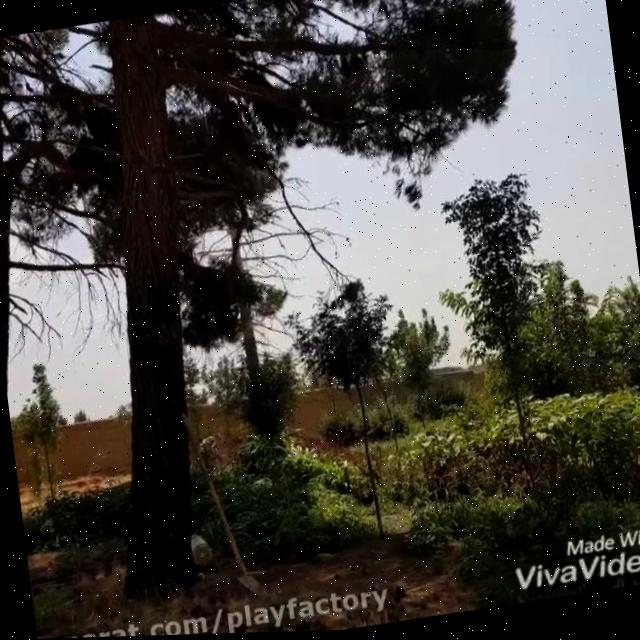drone: (314, 287, 325, 296)
